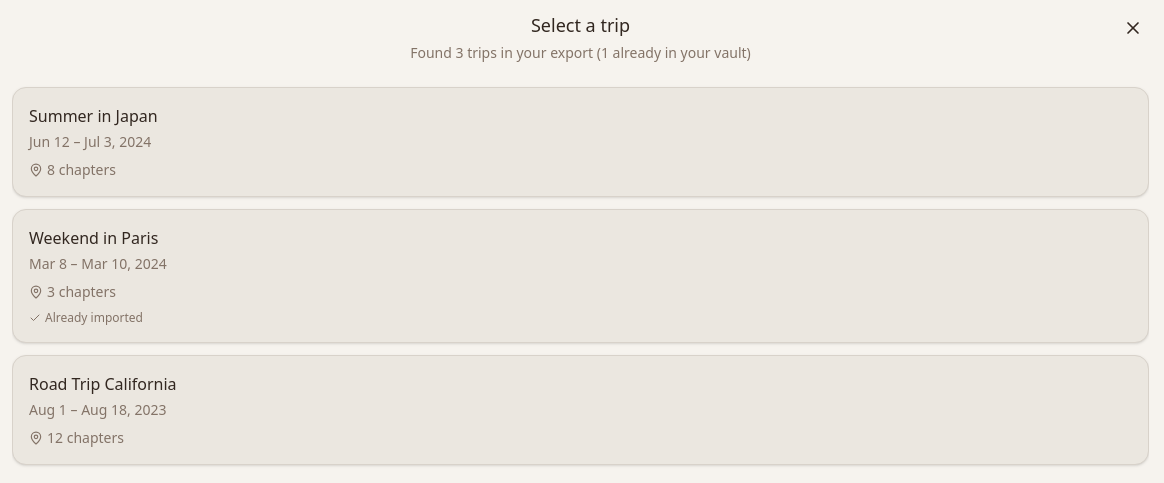
Scenario: TripSelectionList › disables other cards when one is loading (selected)
This screenshot has width=1164, height=483.
# Click a non-imported card to trigger loading state
Click the button "Summer in Japan Jun 12 – Jul 3, 2024 8 chapters" at (93, 116), box x1=13 y1=88 x2=1148 y2=196
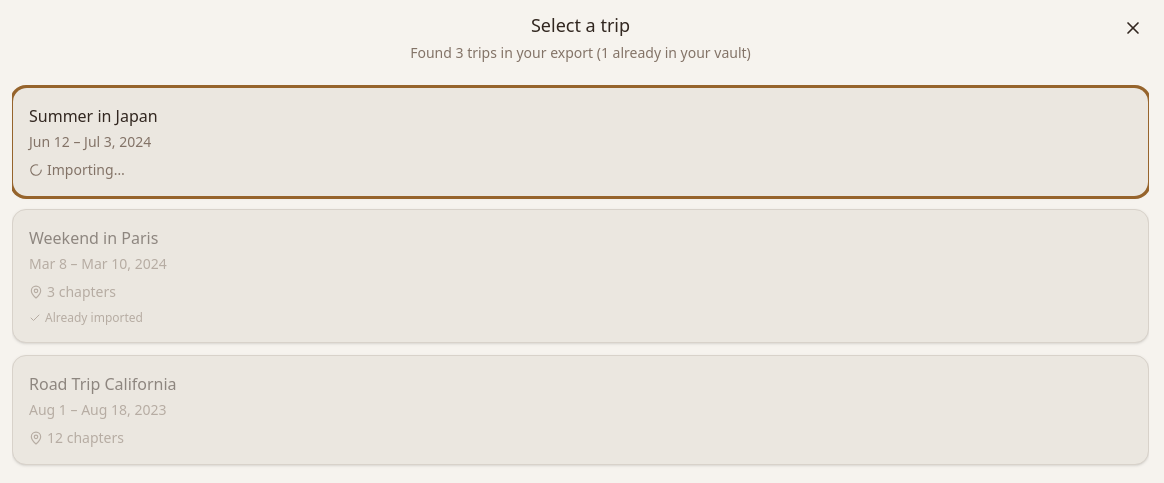
Result: the button "Road Trip California Aug 1 – Aug 18, 2023 12 chapters" is disabled at x1=13 y1=356 x2=1148 y2=464
